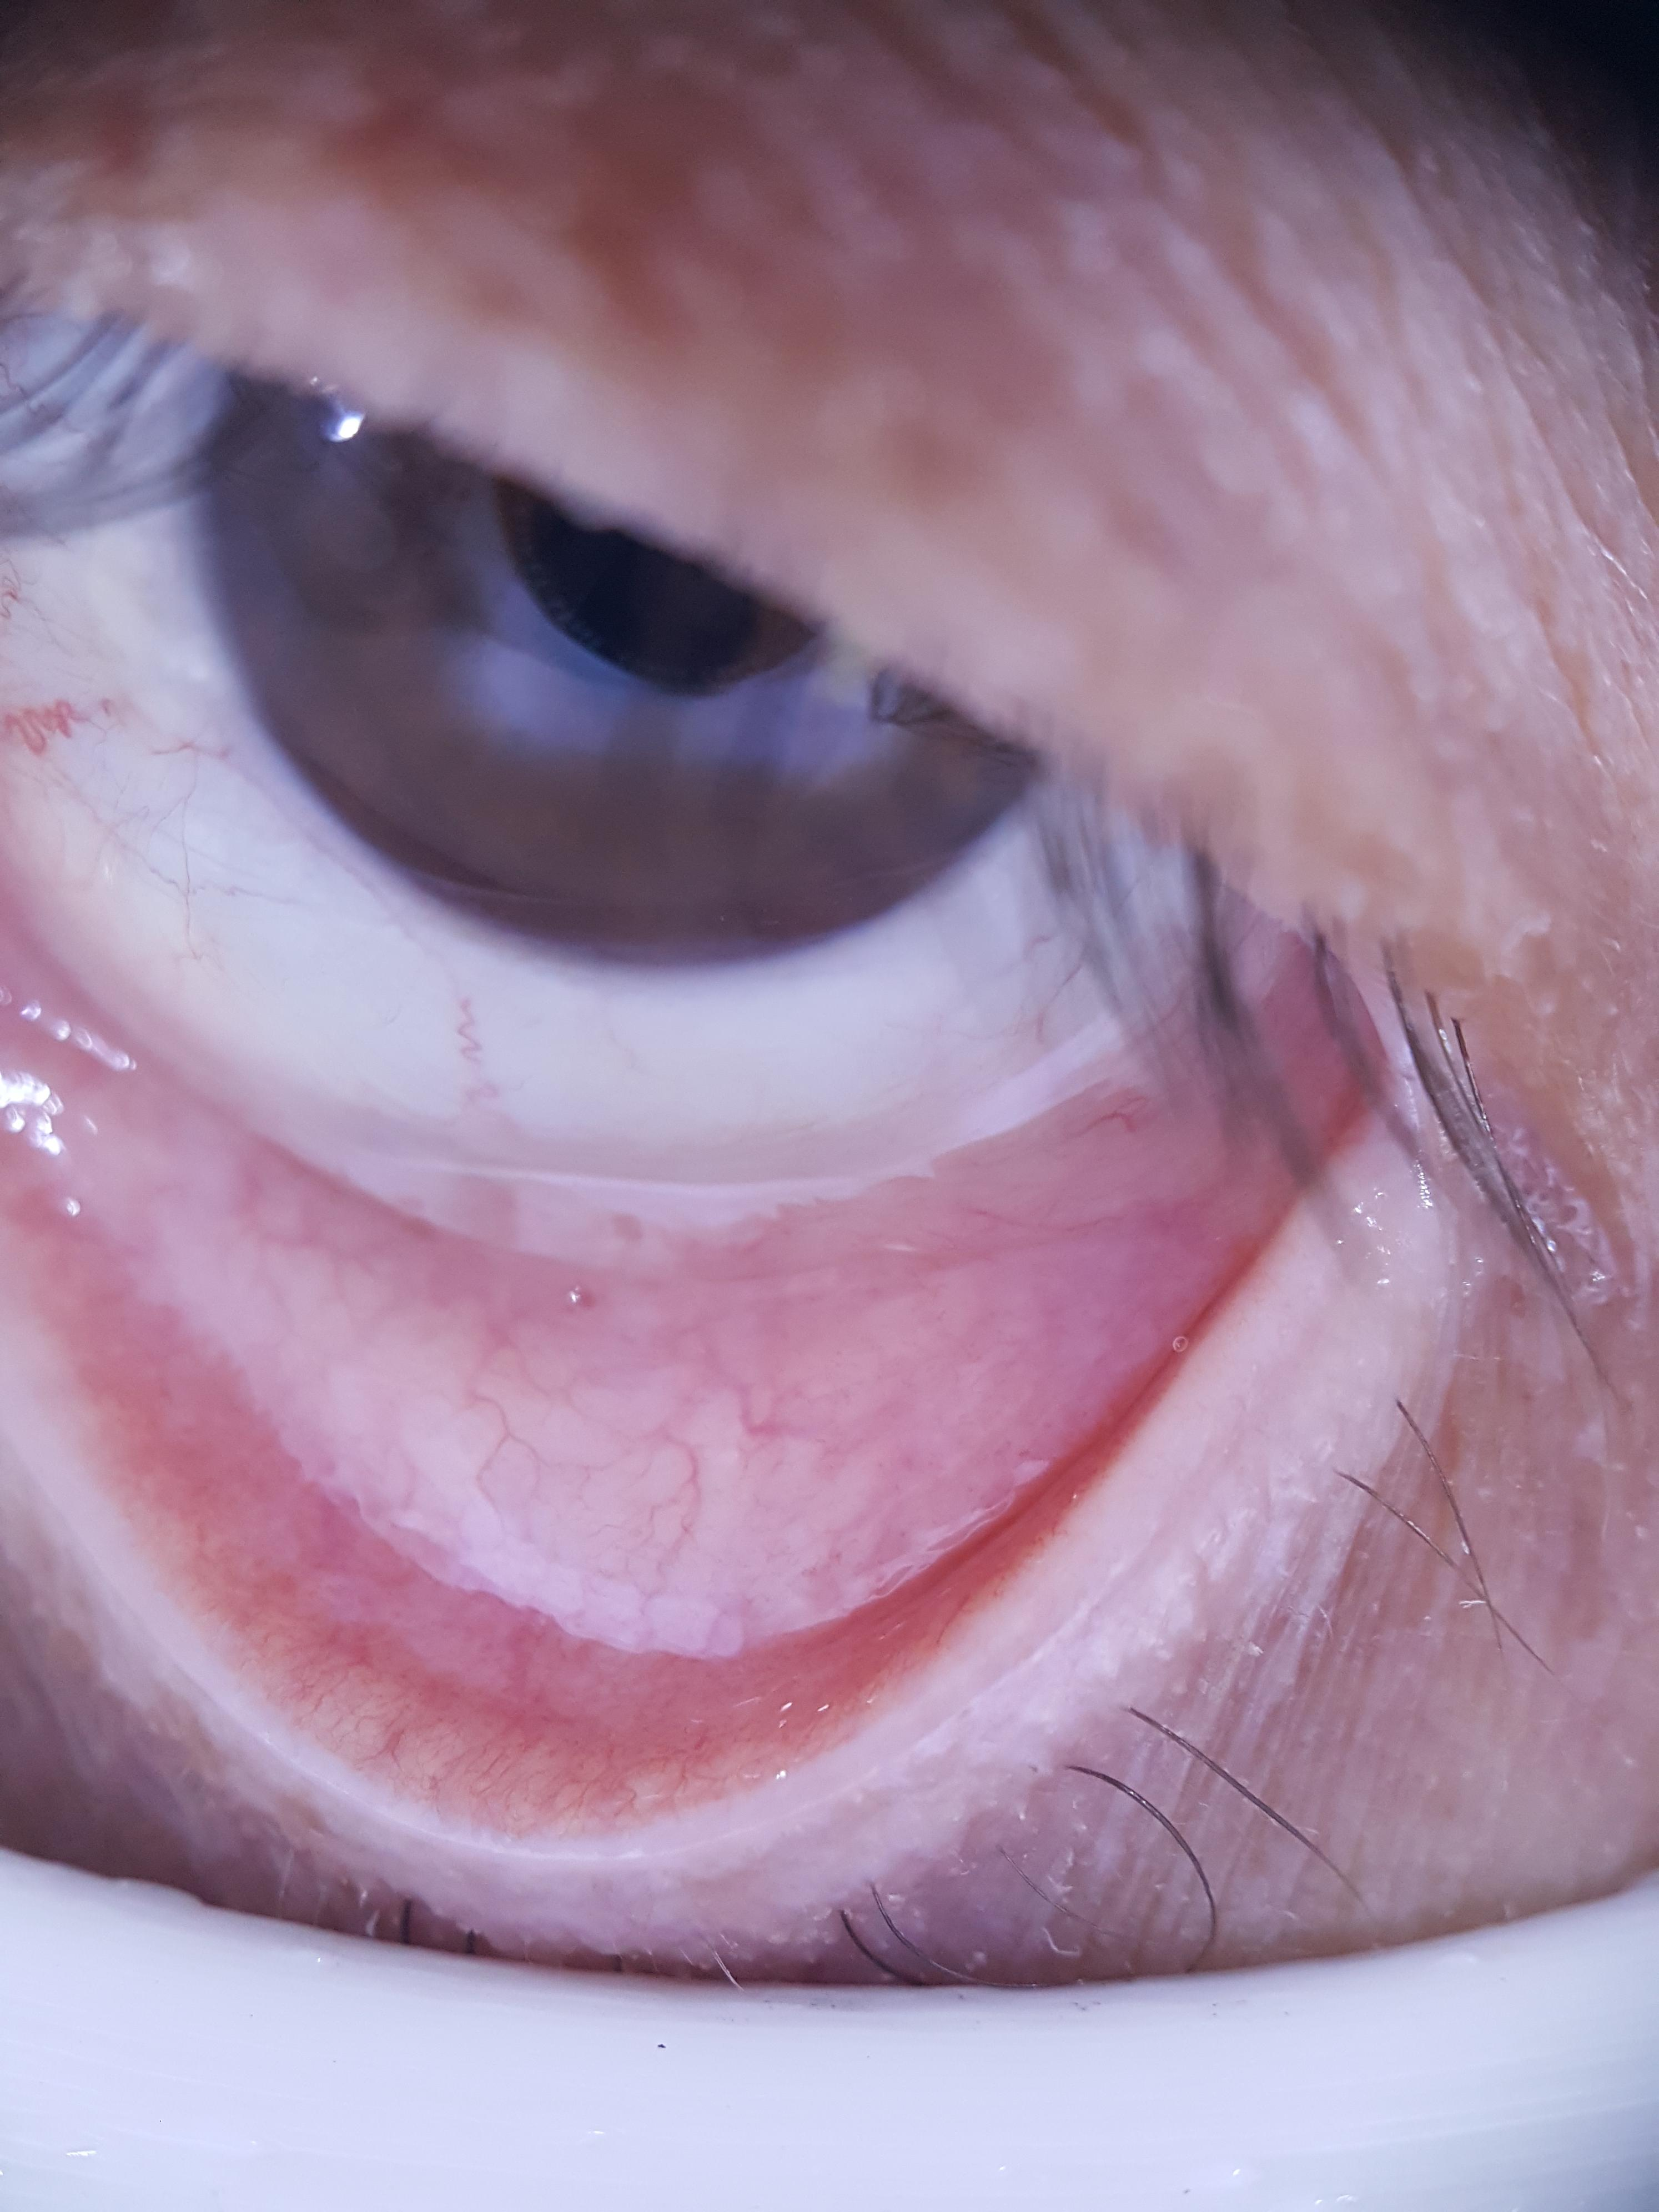forniceal: (0, 899, 1277, 1655)
forniceal_palpebral: (10, 906, 1277, 1815)
palpebral: (10, 1122, 1277, 1822)
